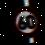Speed Limit -60-: (5, 2, 44, 40)
